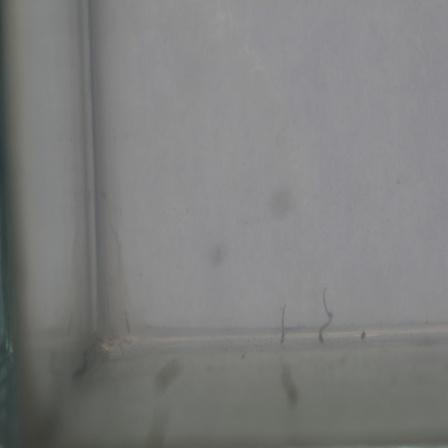Jentik-Nyamuk: (317, 284, 336, 349), (273, 299, 294, 346)
